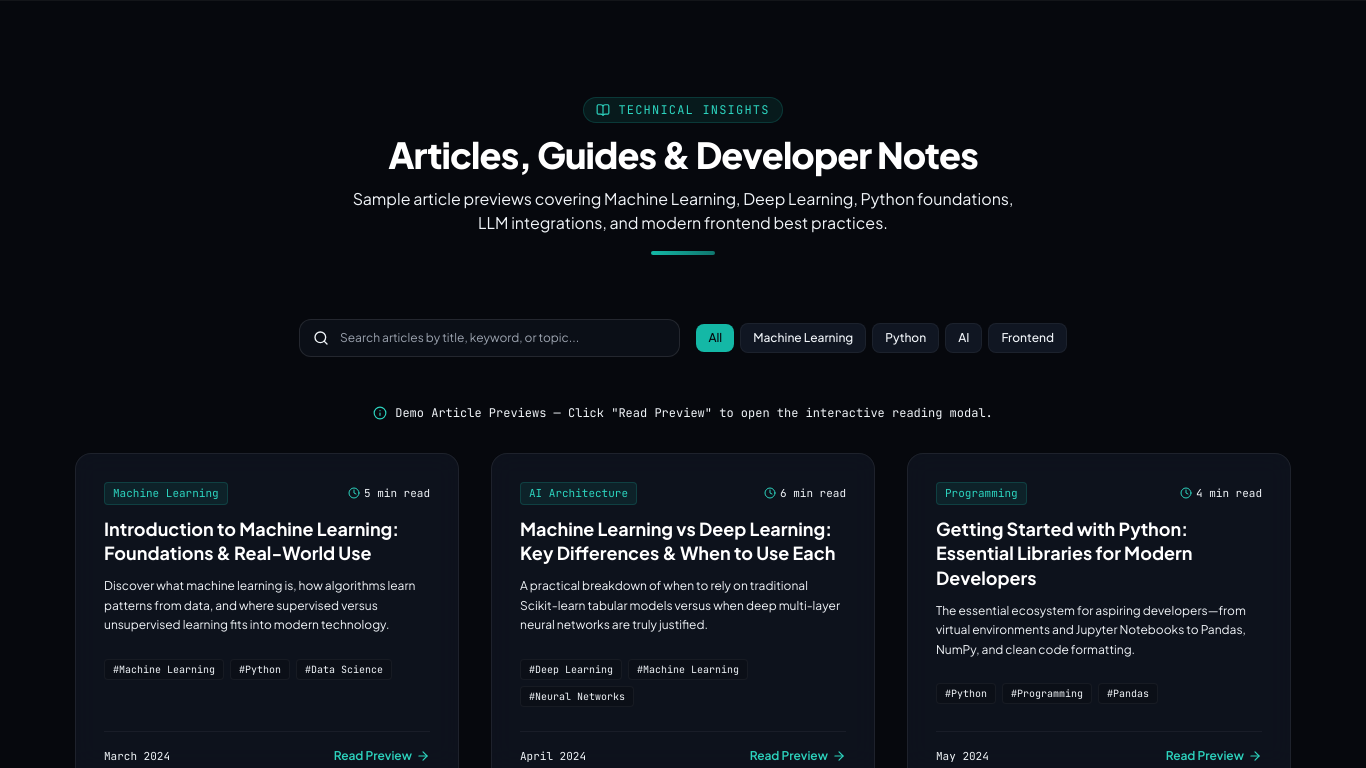
it: Khan Sher Portfolio - Multi-Page Routing & Verification Suite › 5. Blog Search, Filtering & Modal Reading › filters articles by search input
Type "Python" into the field with placeholder "Search articles by title, keyword, or topic..." at (490, 338), box [299,319,680,357]
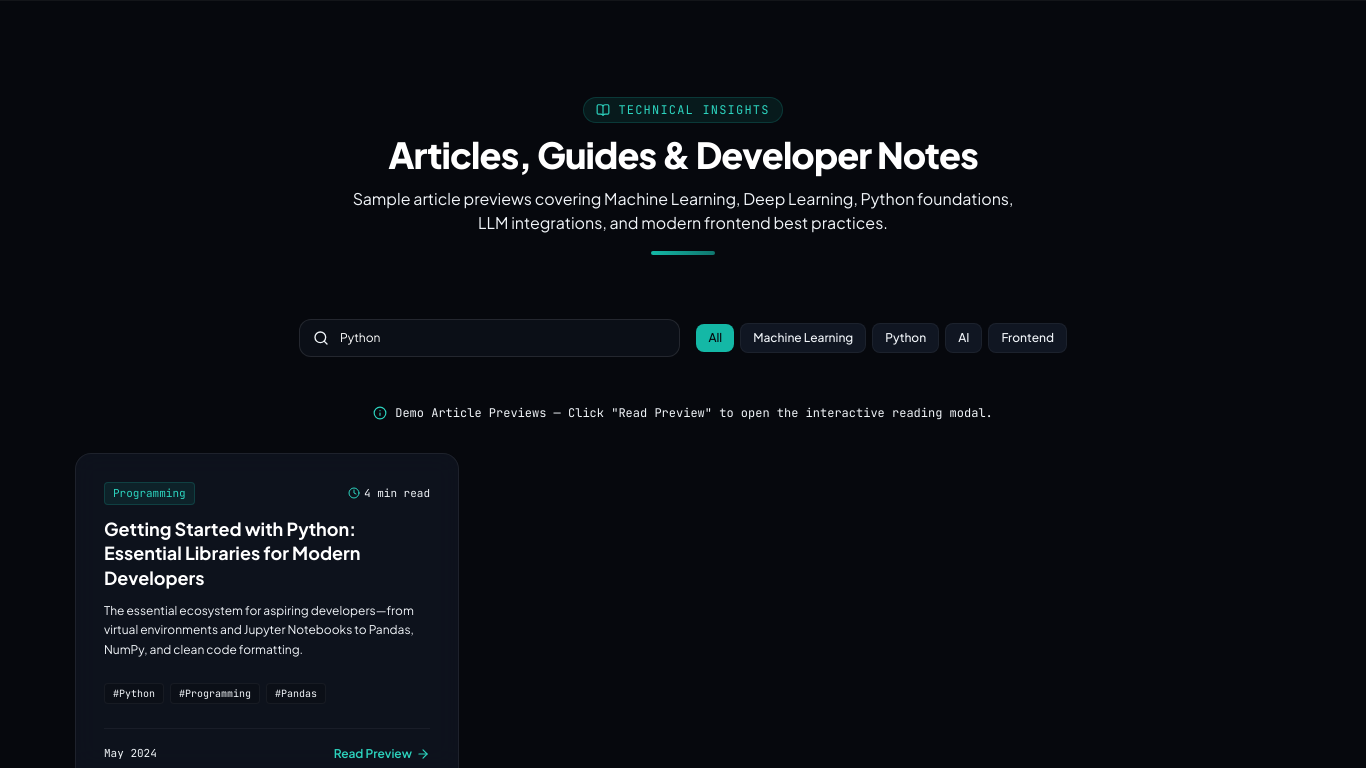
expect the heading "Getting Started with Python: Essential Libraries" is shown: met, box [104,516,360,589]
expect the heading "Machine Learning vs Deep Learning" is gone: met
